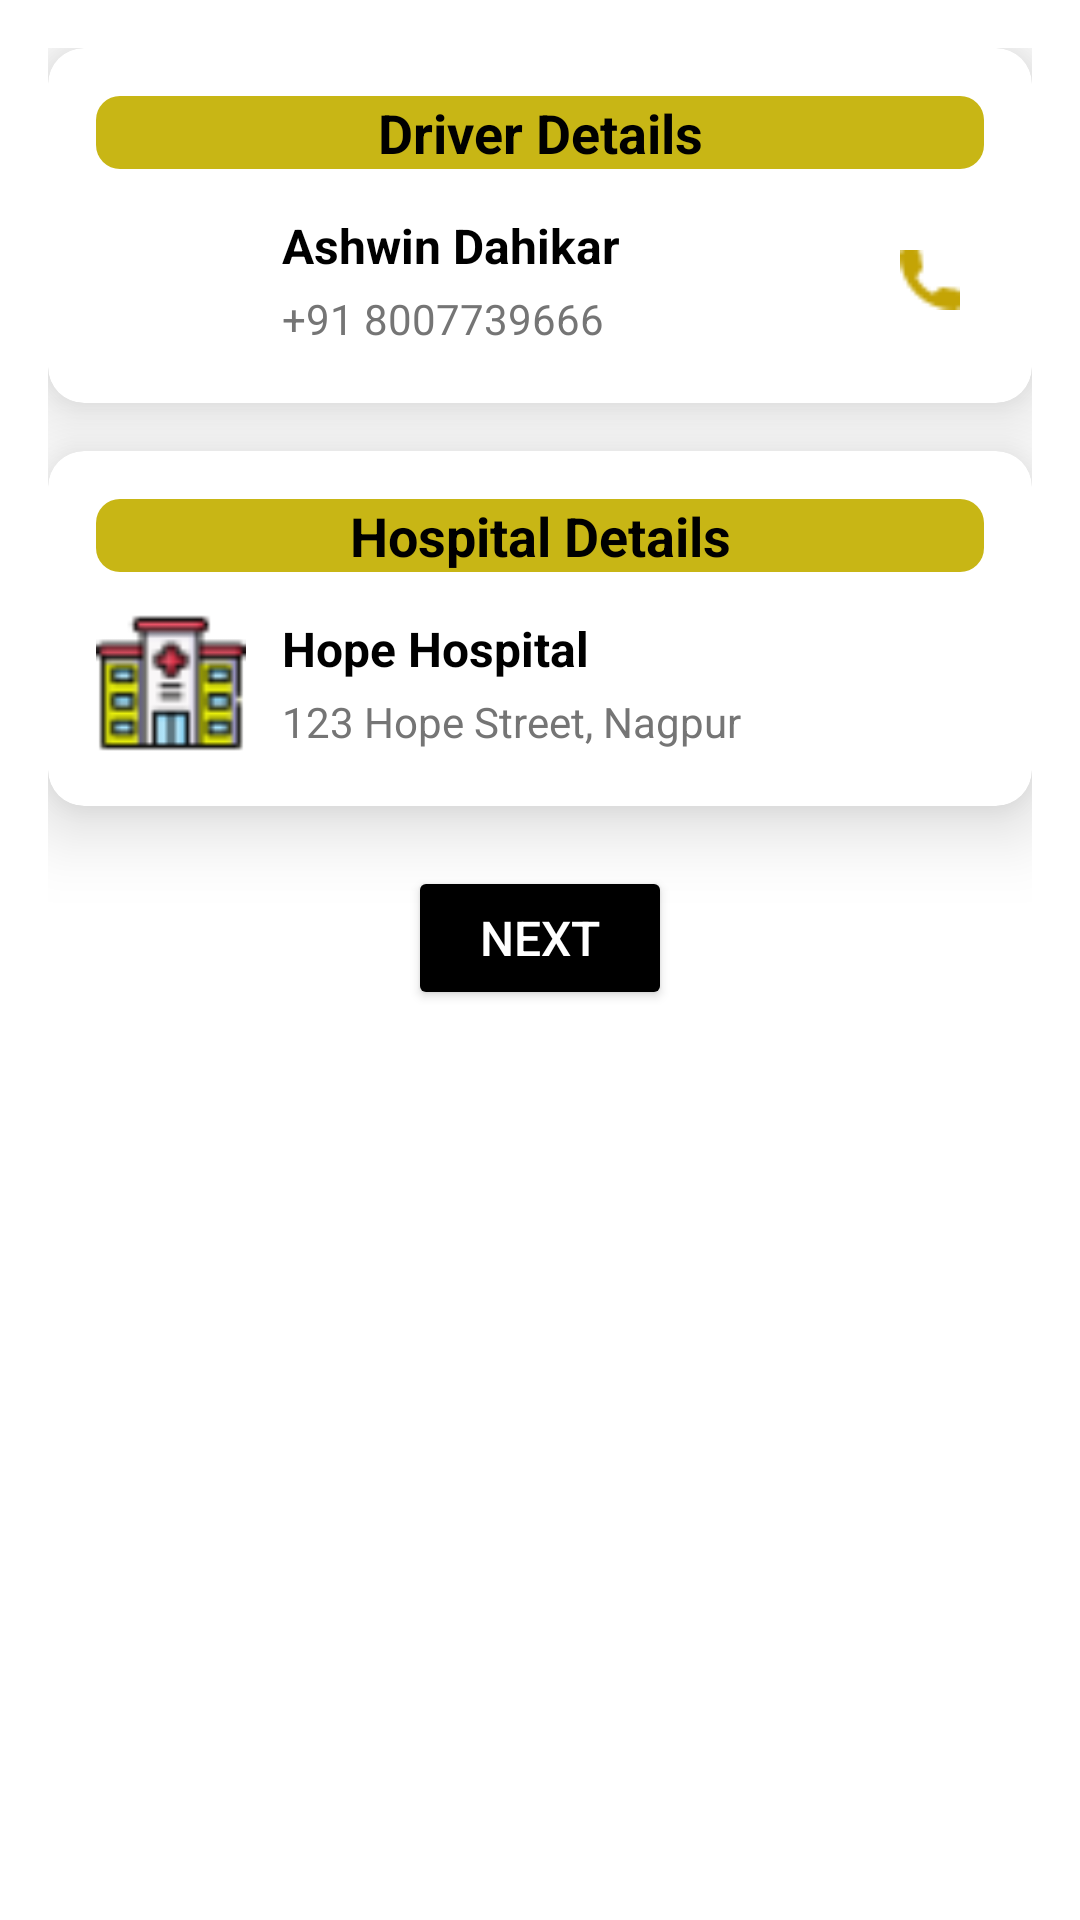

Icon bounding boxes for this 1080*1920 phone screenshot, format [x1, y1, x2, y2]:
Call Button: [900, 250, 960, 310]
